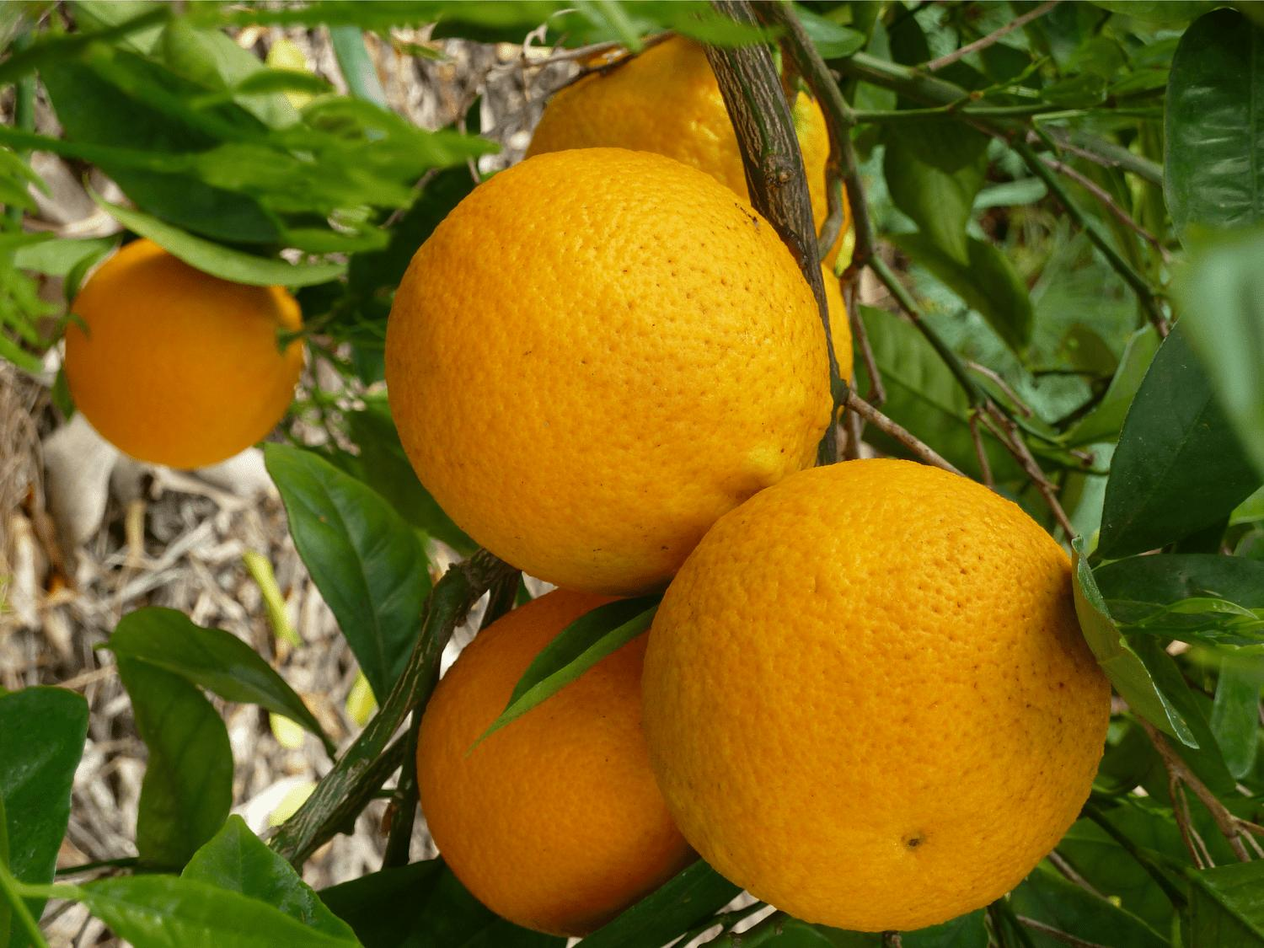orange: (633, 460, 1128, 948), (393, 132, 807, 575), (412, 553, 718, 948), (58, 222, 319, 482)
